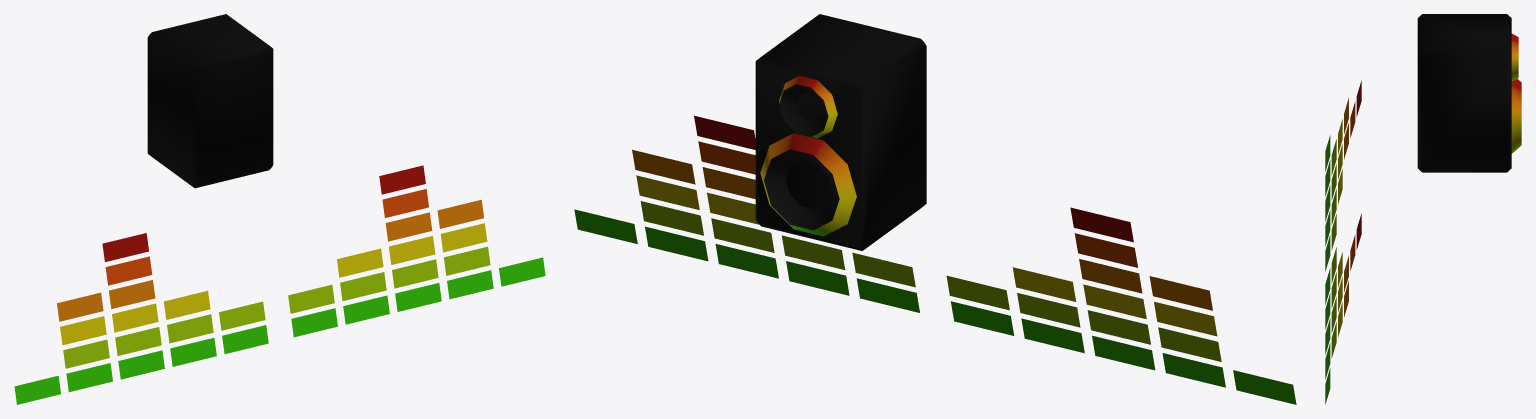
File: hat_premium_Equalizer.glb
The picture shows the model from 3 angles, left to right: view 1: azimuth 30°, elevation 25°; view 2: azimuth 150°, elevation 25°; view 3: azimuth 270°, elevation 25°; orthographic projection. The views are drawn at different scales.
Visible parts, largest first — view 1: hat_premium_Equalizer; view 2: hat_premium_Equalizer; view 3: hat_premium_Equalizer.
Part boxes in pixels (x1,y1,x2,y2): hat_premium_Equalizer: (14, 14, 545, 404); hat_premium_Equalizer: (574, 14, 1296, 404); hat_premium_Equalizer: (1325, 14, 1521, 404).
Size of the model in its own units: 1.01 by 0.456 by 0.3293.
